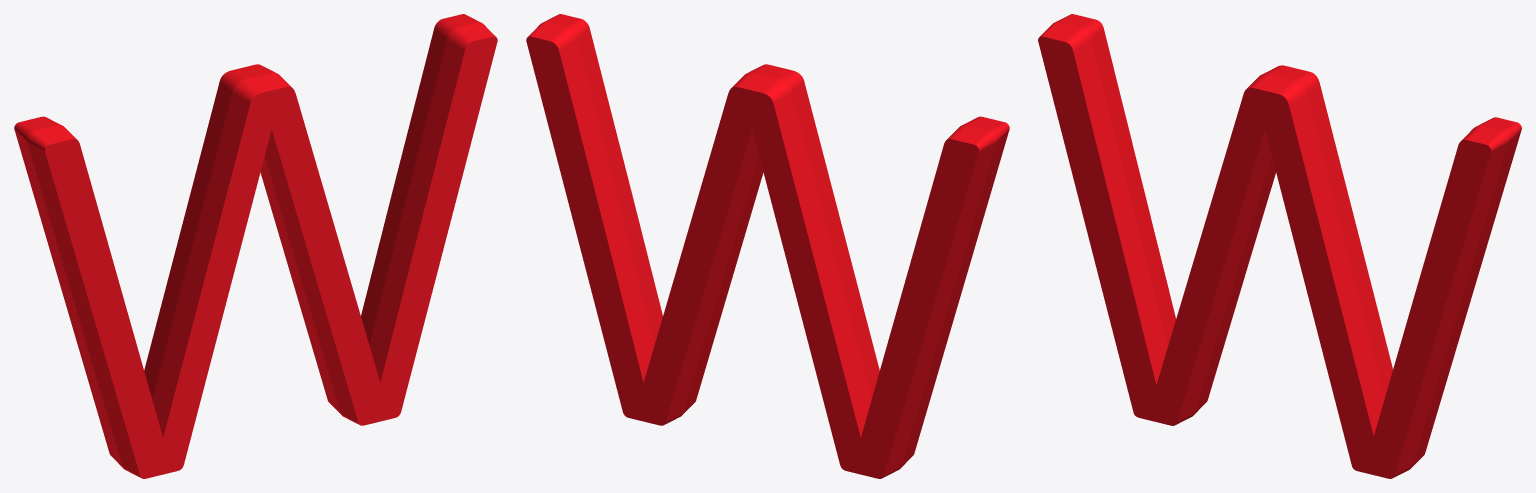
File: W_Color.FBX
3 renders of one model, left to right at view 1: azimuth 30°, elevation 25°; view 2: azimuth 150°, elevation 25°; view 3: azimuth 330°, elevation 25°, orthographic.
Parts seen in each view (by area): view 1: W_Color; view 2: W_Color; view 3: W_Color.
Part boxes in pixels (left/top/right/bottom): W_Color: left=14, top=14, right=497, bottom=478; W_Color: left=526, top=14, right=1009, bottom=478; W_Color: left=1038, top=14, right=1521, bottom=478.
Size of the model in its own units: 112 by 84.89 by 13.
